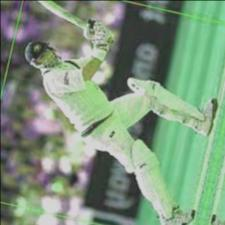batsman: (0, 21, 225, 225)
